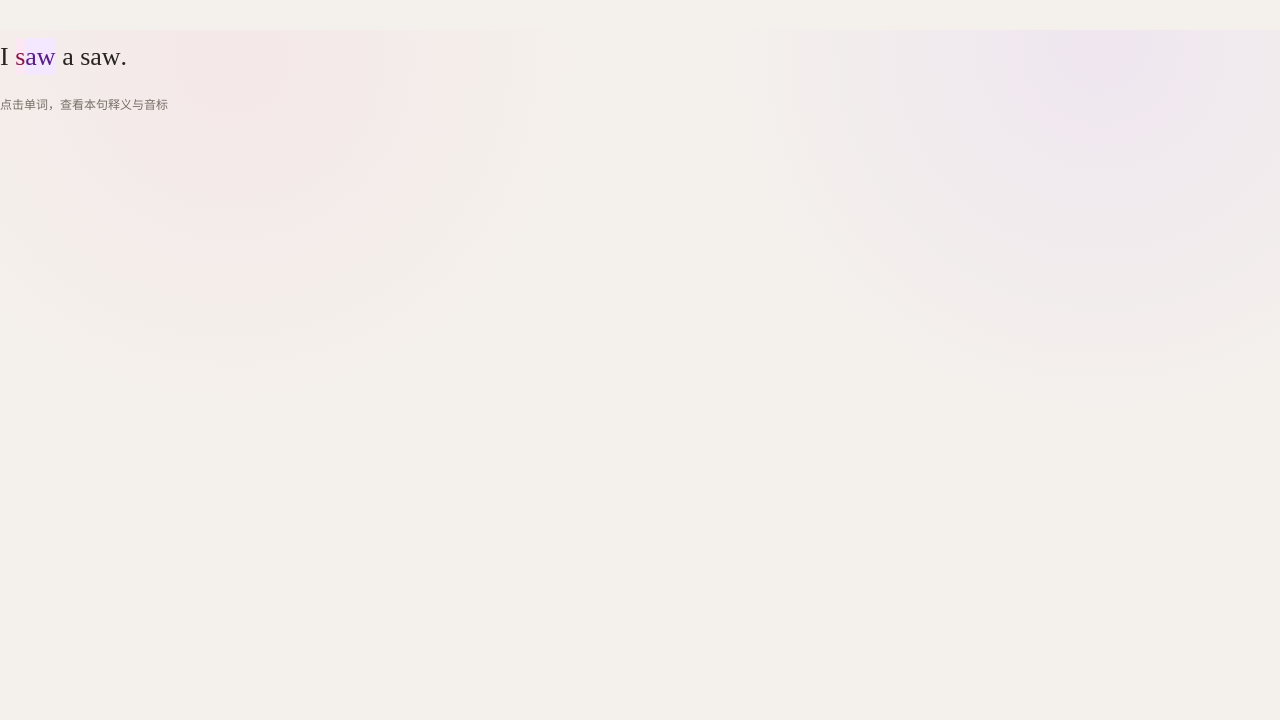
Test: queries a whole word even when a color boundary falls inside it
The image size is (1280, 720).
Click the button with aria-label "查询 saw" at (35, 57), box x1=15 y1=30 x2=56 y2=85
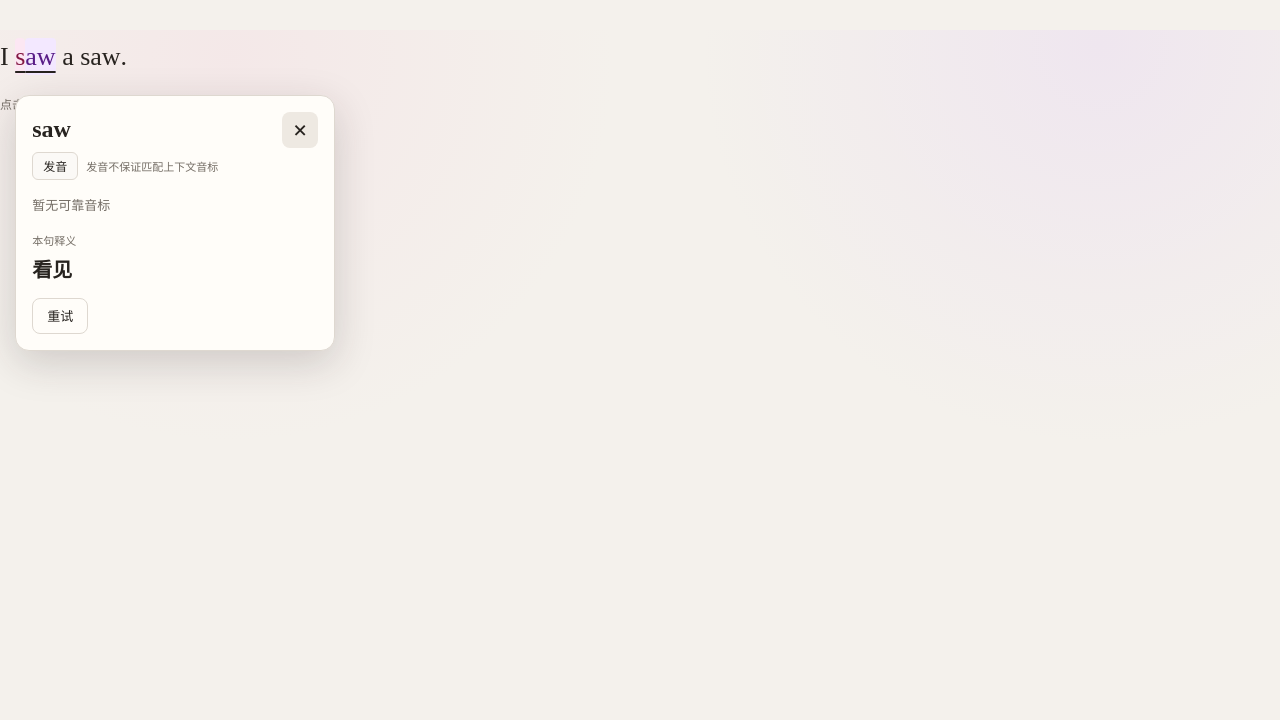
Check: the element with test id "highlighted-sentence" reads "I saw a saw .", box x1=0 y1=30 x2=127 y2=85
Check: the text "看见" is shown, box x1=32 y1=258 x2=72 y2=282
